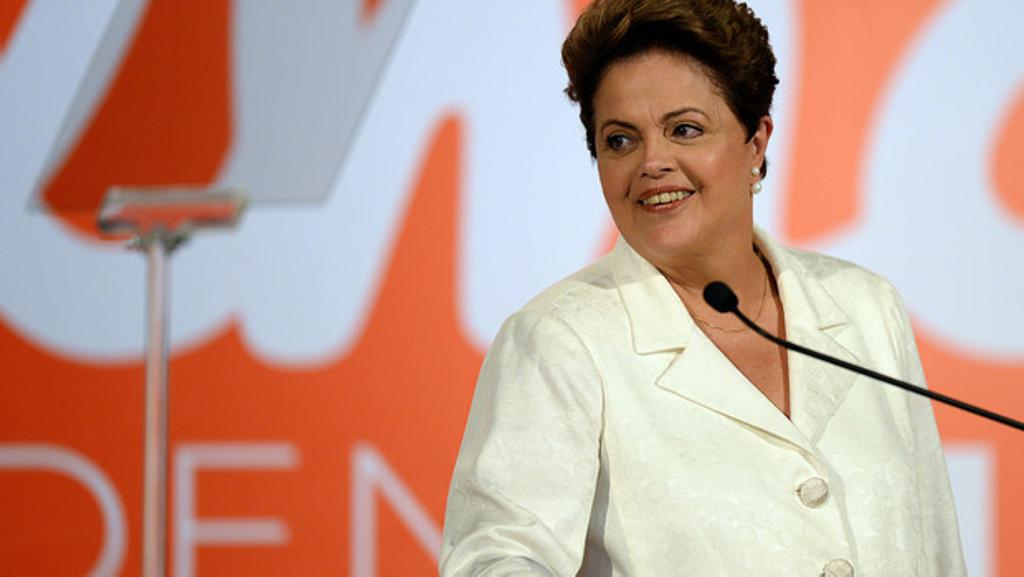face: (592, 82, 744, 260)
